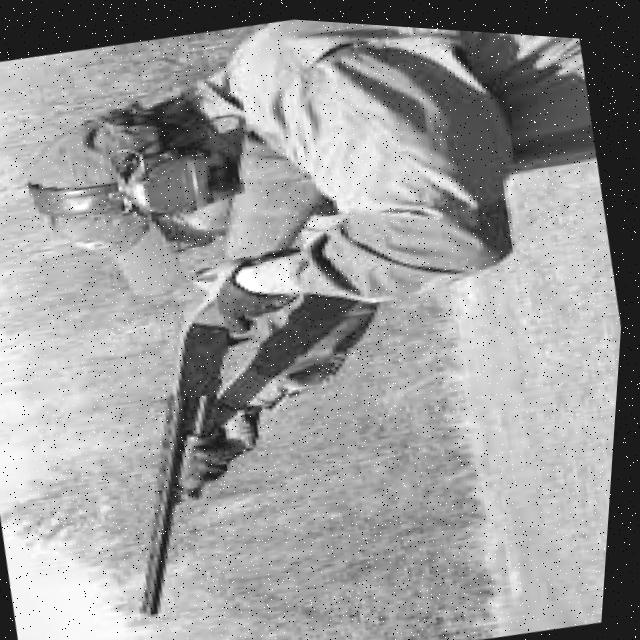firearm: (51, 101, 415, 630)
